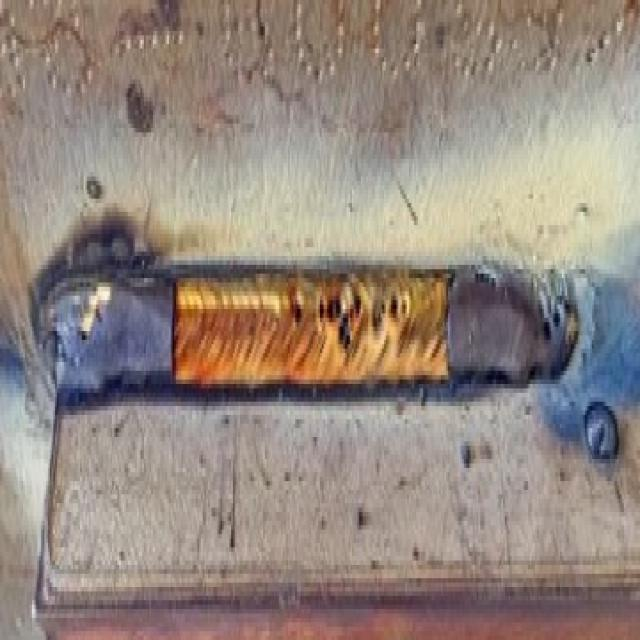Bad Weld: (39, 252, 580, 392)
Defect: (281, 278, 409, 353), (536, 286, 566, 344), (468, 260, 496, 287)
